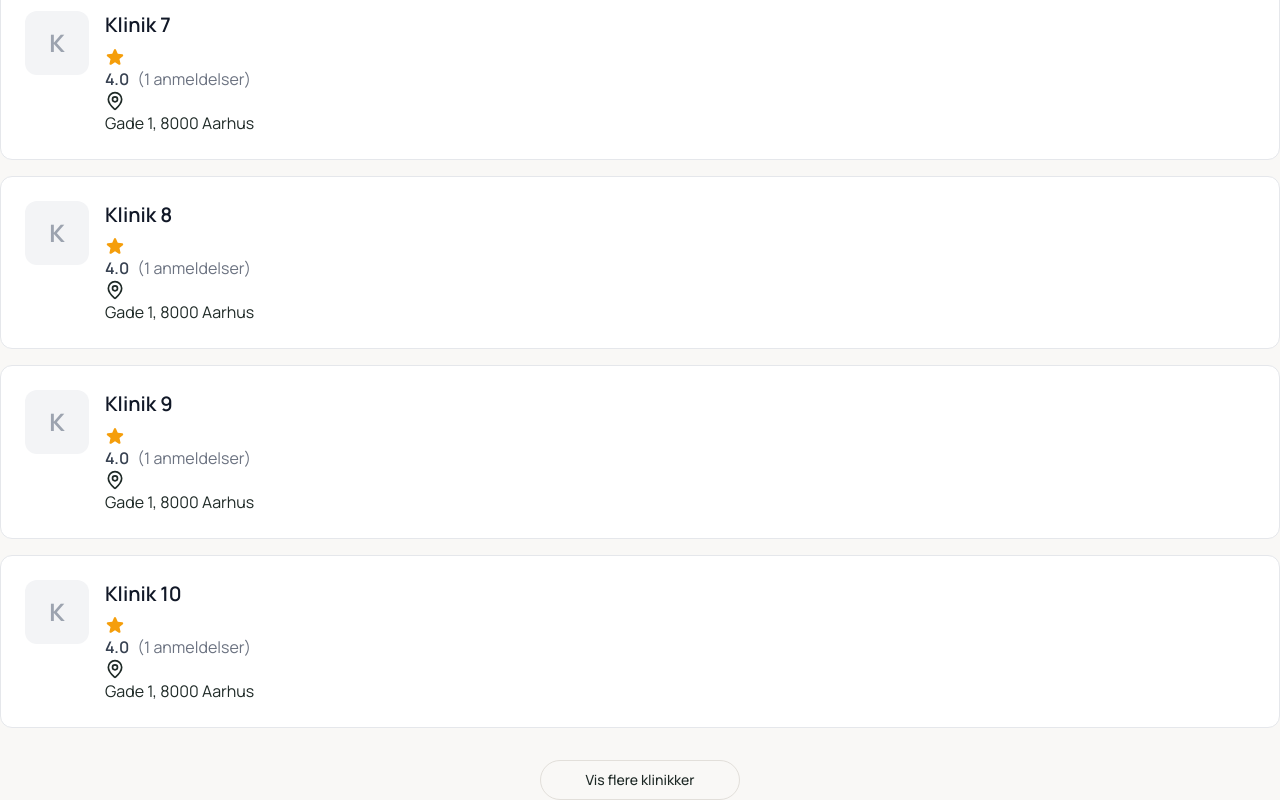
Test case: ClinicsList › renders the first page and loads more clinics from the server
This screenshot has width=1280, height=800.
(page scrolled)
Expected: the text "Klinik 11" is not shown
Click the button "Vis flere klinikker".
click(640, 780)  # box [540,760,740,799]
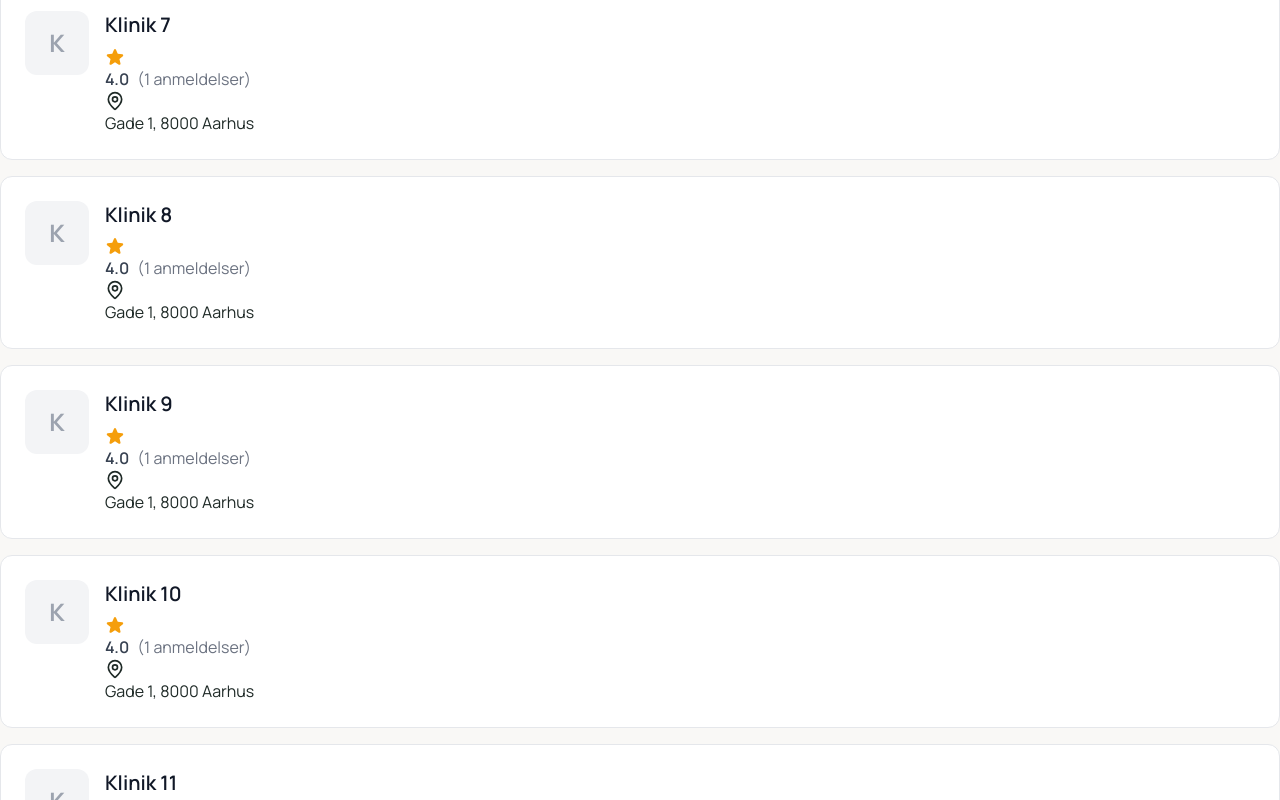
Result: the link "Klinik 11" is shown at [105,769,177,796]
